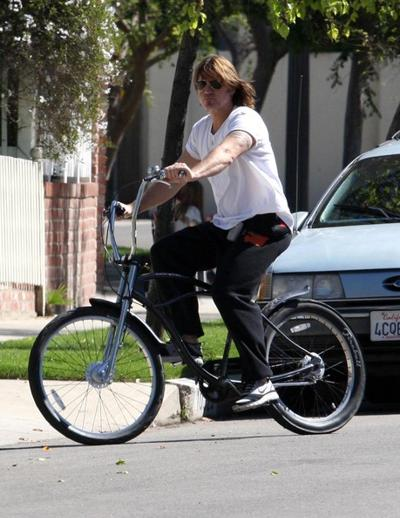person: (112, 51, 294, 415)
